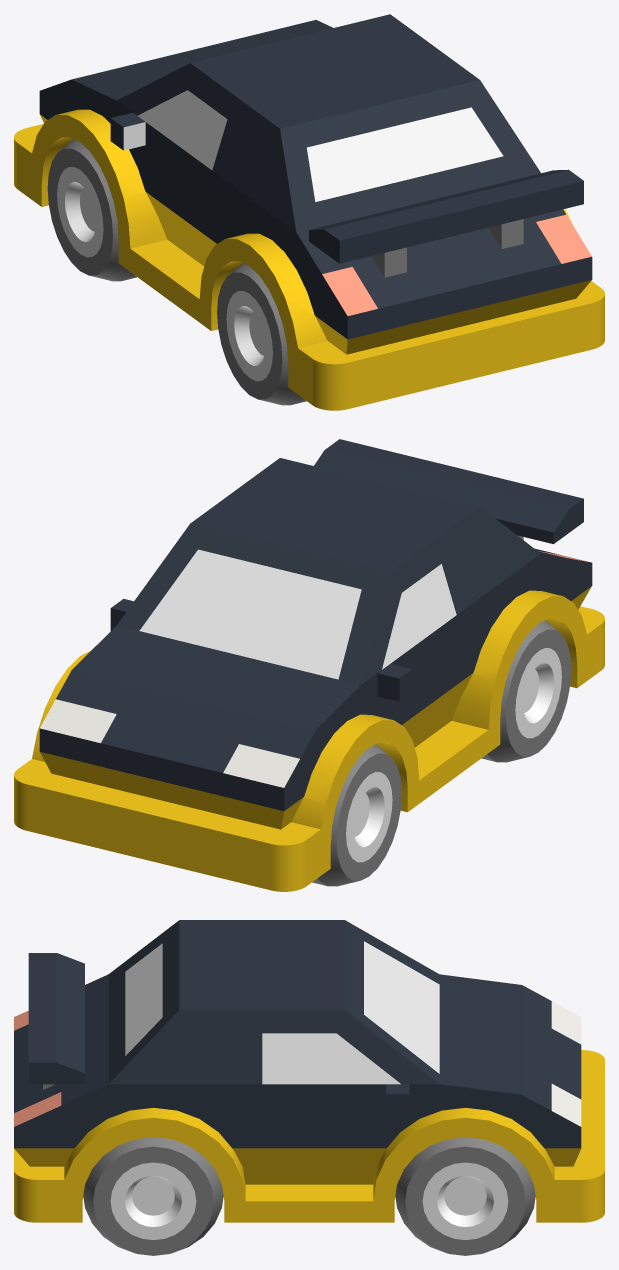
File: sedanSports.glb
The picture shows the model from 3 angles, top to bottom: view 1: azimuth 30°, elevation 25°; view 2: azimuth 150°, elevation 25°; view 3: azimuth 270°, elevation 25°; orthographic projection. The views are drawn at different scales.
Parts seen in each view (by area): view 1: body, spoiler, wheel_backLeft, wheel_frontLeft; view 2: body, spoiler, wheel_frontLeft, wheel_backLeft; view 3: body, wheel_backRight, wheel_frontRight, spoiler.
Part boxes in pixels (x1=…): body: x1=14, y1=14, x2=604, y2=410; spoiler: x1=309, y1=169, x2=583, y2=277; wheel_backLeft: x1=217, y1=263, x2=306, y2=405; wheel_frontLeft: x1=47, y1=139, x2=136, y2=281; body: x1=14, y1=458, x2=604, y2=891; spoiler: x1=314, y1=439, x2=583, y2=543; wheel_frontLeft: x1=312, y1=744, x2=401, y2=886; wheel_backLeft: x1=481, y1=620, x2=571, y2=762; body: x1=14, y1=920, x2=604, y2=1222; wheel_backRight: x1=83, y1=1137, x2=223, y2=1255; wheel_frontRight: x1=395, y1=1137, x2=535, y2=1255; spoiler: x1=28, y1=953, x2=84, y2=1089.
Size of the model in its own units: 1.3 by 1.1 by 2.5.
